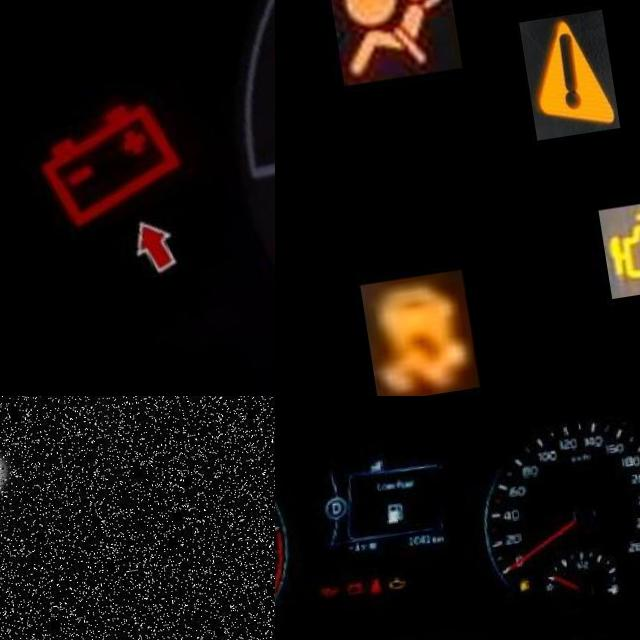Central Warning lamp: (511, 20, 609, 148)
Electronic Power Steering: (0, 396, 92, 636)
Seat Belt: (357, 589, 374, 609)
